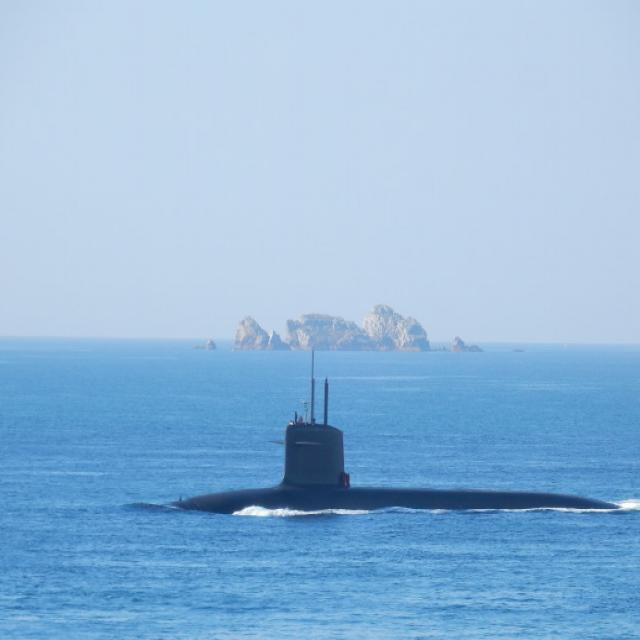submarine: (156, 393, 640, 515)
